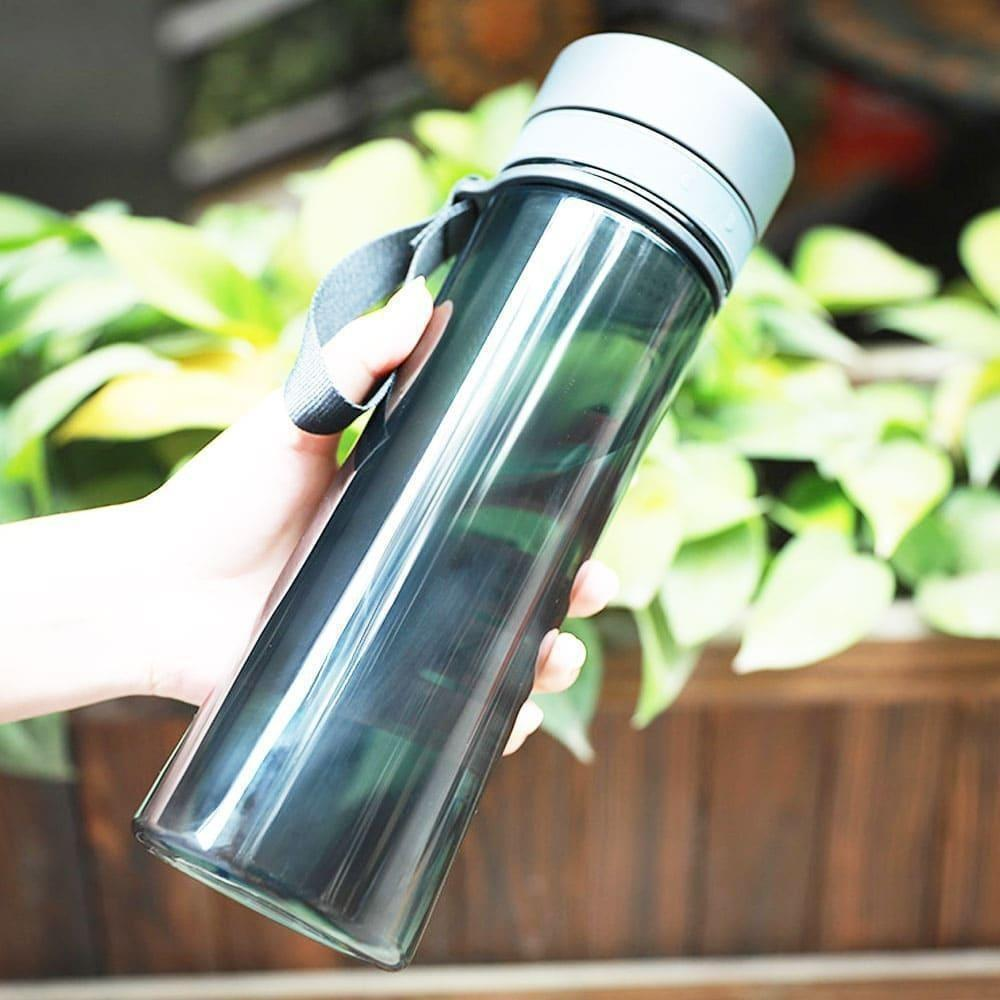gym bottle: (133, 29, 798, 973)
